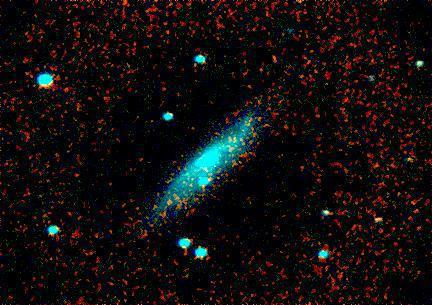star: (158, 184, 188, 214)
